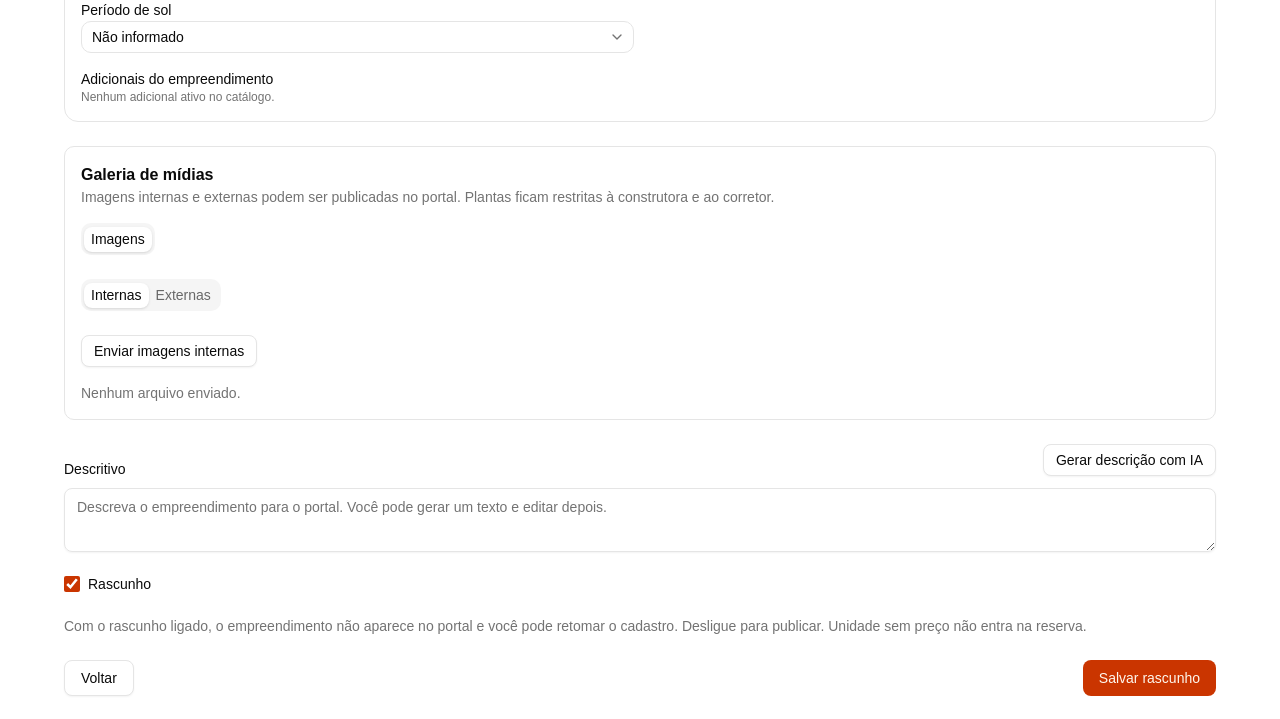
BuildingWizardPage › shows an error when publishing without unit prices
(page scrolled)
Click the checkbox labelled "Rascunho". click: (72, 584)
box: [64,576,80,592]
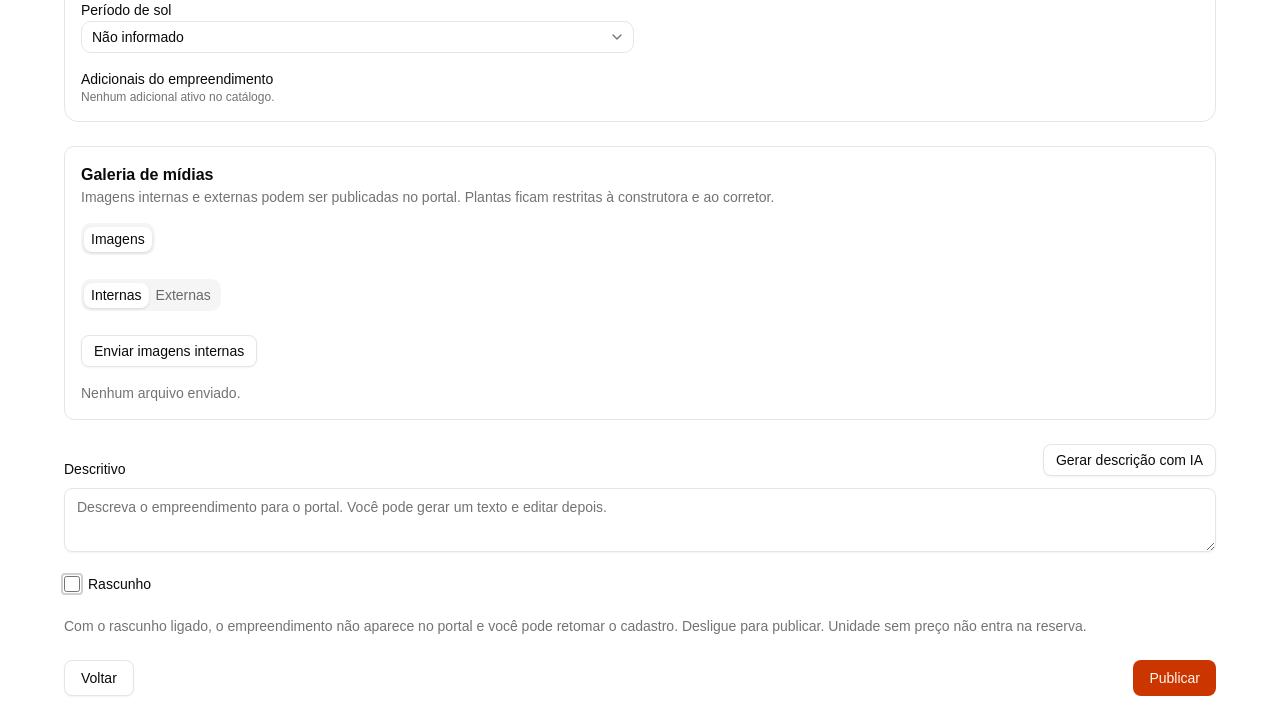
Click the button "Publicar". click: (1175, 678)
box: [1133,660,1216,696]
(page scrolled)
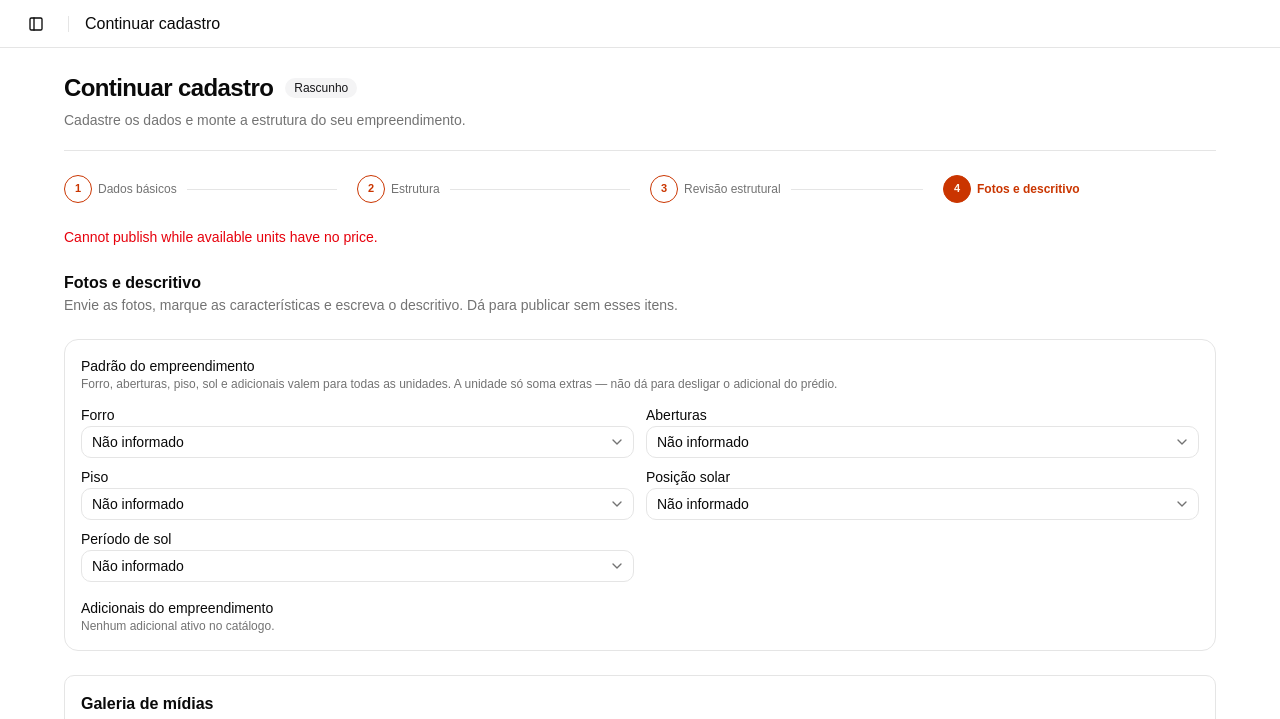
Expected: the text "Cannot publish while available units have no price." is shown, [64,229,378,245]
